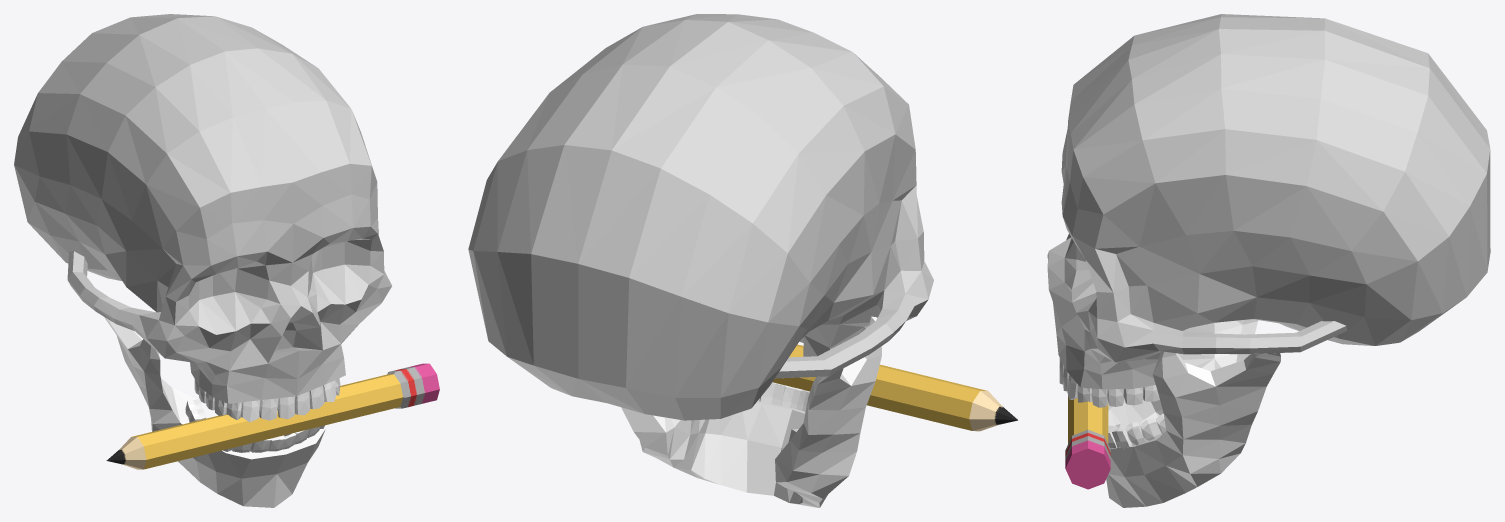
The model's file is skull.gltf.
3 views of the same model, side by side, from view 1: azimuth 30°, elevation 25°; view 2: azimuth 150°, elevation 25°; view 3: azimuth 270°, elevation 25° (orthographic). The views are drawn at different scales.
Parts seen in each view (by area): view 1: skull_upper_uv skull2, pencil1, skull_lower_uv mandible2; view 2: skull_upper_uv skull2, skull_lower_uv mandible2, pencil1; view 3: skull_upper_uv skull2, skull_lower_uv mandible2, pencil1.
Boxes of the visible parts, left/top/right/bottom form: skull_upper_uv skull2: left=14, top=14, right=391, bottom=403; pencil1: left=106, top=363, right=439, bottom=469; skull_lower_uv mandible2: left=104, top=317, right=325, bottom=507; skull_upper_uv skull2: left=468, top=14, right=933, bottom=420; skull_lower_uv mandible2: left=621, top=316, right=881, bottom=507; pencil1: left=772, top=344, right=1017, bottom=431; skull_upper_uv skull2: left=1047, top=14, right=1490, bottom=389; skull_lower_uv mandible2: left=1106, top=319, right=1280, bottom=507; pencil1: left=1065, top=395, right=1110, bottom=489.
Bounding box in the file's own units: 4.49 × 5.58 × 4.78.
Materials: 35 (1 with a texture image).
